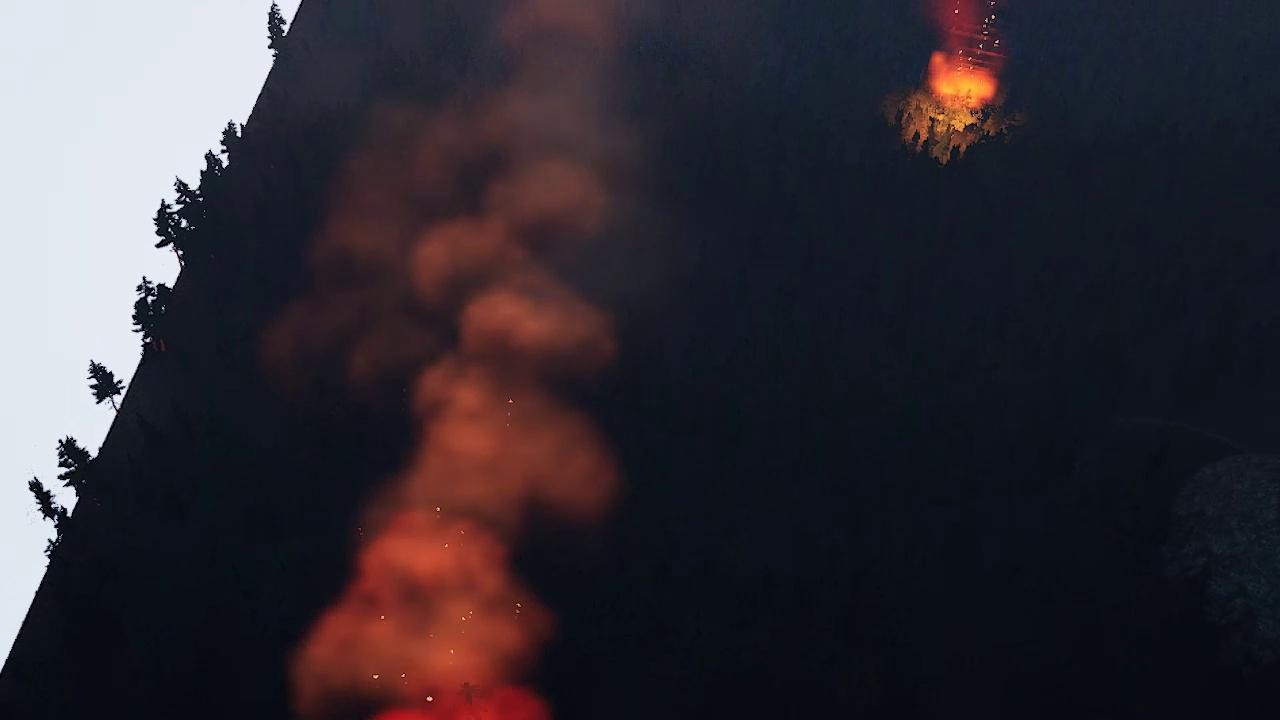fire: (927, 53, 996, 113)
smoke: (269, 2, 683, 715), (880, 0, 1025, 47)
